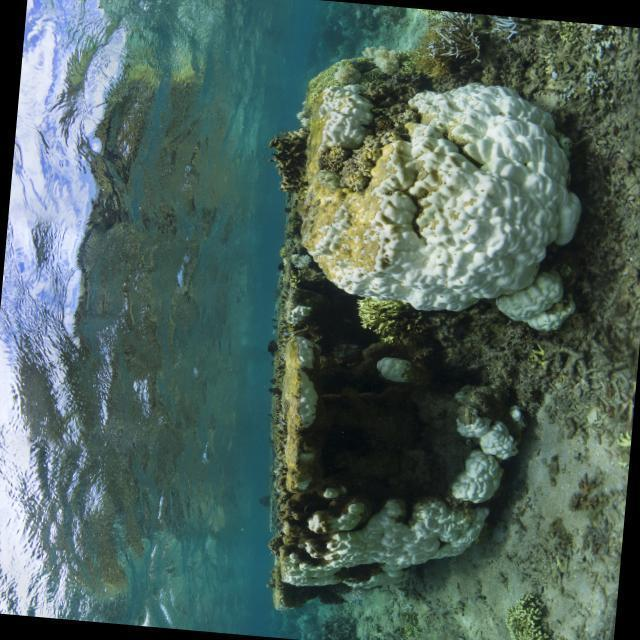Bleached Coral: (347, 77, 624, 344), (291, 499, 493, 610), (450, 412, 526, 514)
Dead Coral: (538, 346, 632, 431)
